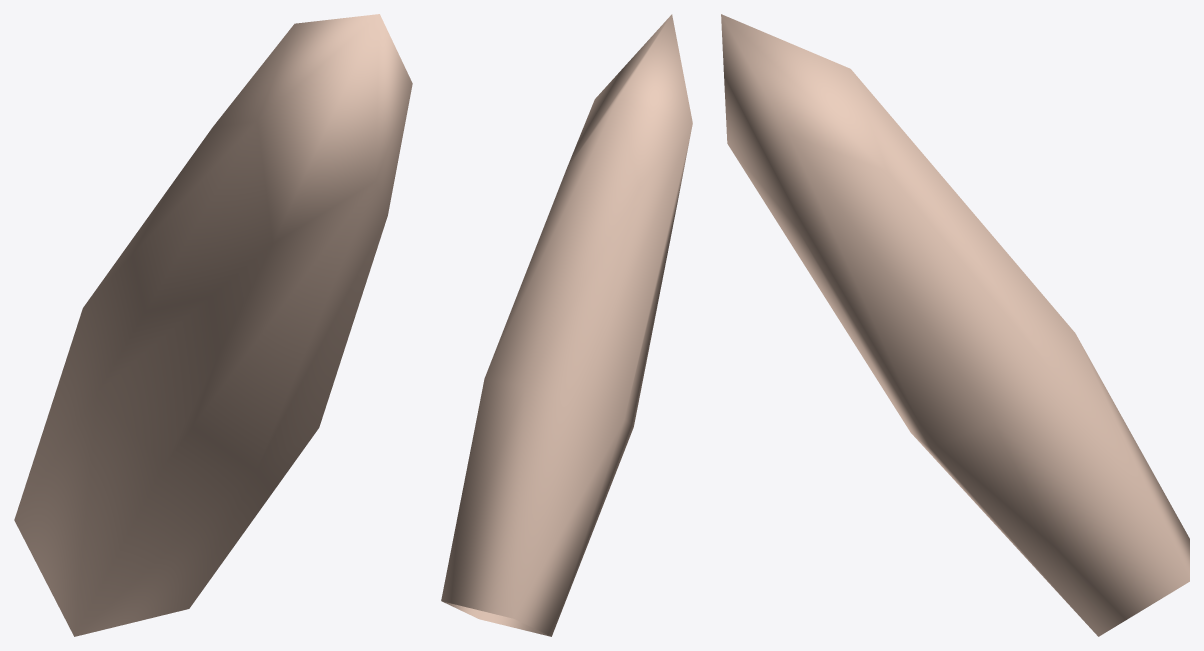
File: Arm.fbx
3 renders of one model, left to right at view 1: azimuth 30°, elevation 25°; view 2: azimuth 150°, elevation 25°; view 3: azimuth 270°, elevation 25°, orthographic. The views are drawn at different scales.
Parts seen in each view (by area): view 1: pCube3; view 2: pCube3; view 3: pCube3.
Boxes of the visible parts, box(x1,y1,x2,y2) form: pCube3: box(14, 14, 412, 636); pCube3: box(441, 14, 692, 636); pCube3: box(721, 14, 1189, 636).
Bounding box in the file's own units: 4.1 × 14.96 × 10.57.
